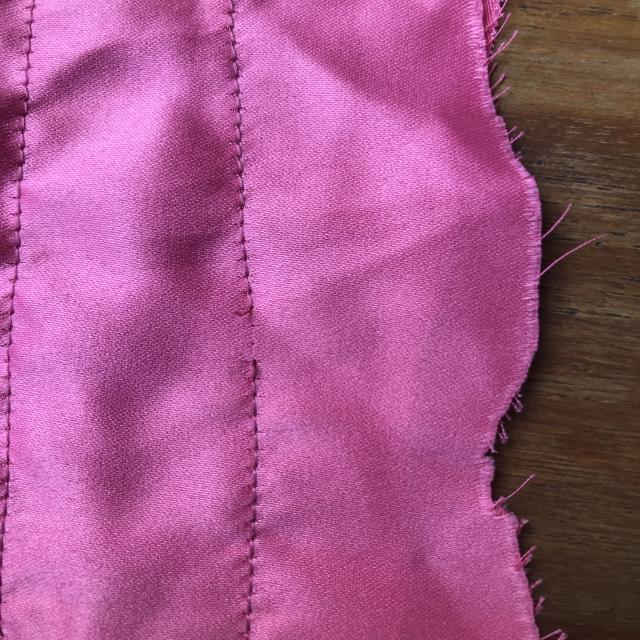broken: (213, 297, 283, 380)
